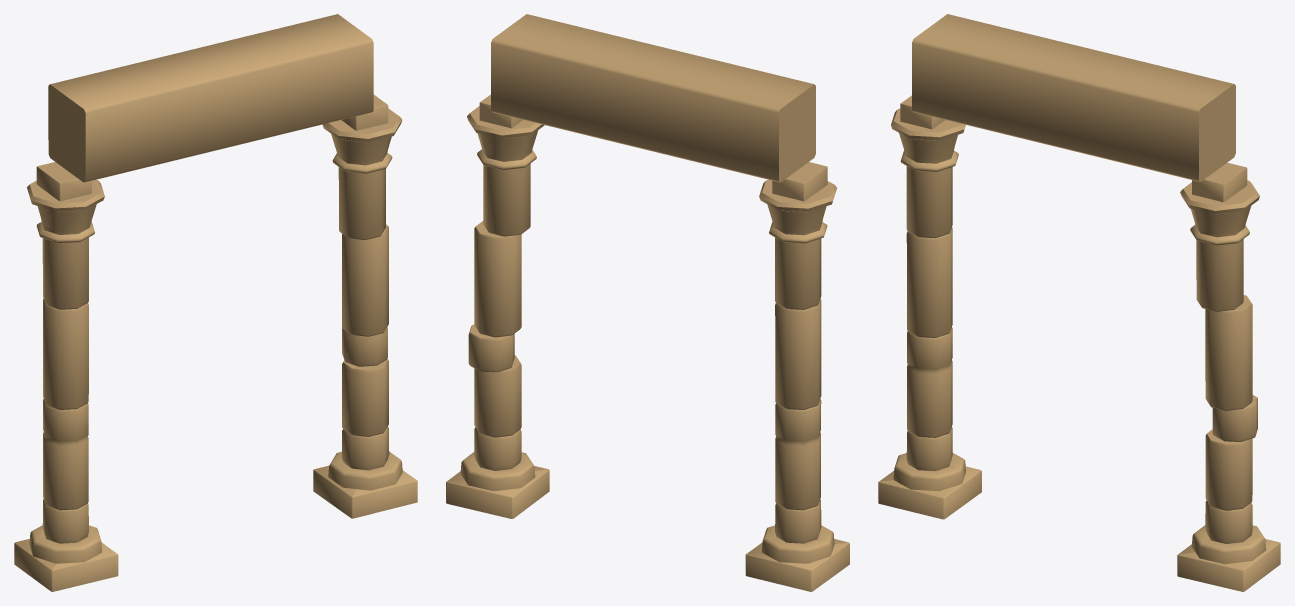
Rendered from Ruins_Pillars.fbx.
3 renders of one model, left to right at view 1: azimuth 30°, elevation 25°; view 2: azimuth 150°, elevation 25°; view 3: azimuth 330°, elevation 25°, orthographic.
Visible parts, largest first — view 1: Pair; view 2: Pair; view 3: Pair.
Boxes of the visible parts, <box> form: Pair: <box>14,14,417,591</box>; Pair: <box>446,14,849,591</box>; Pair: <box>878,14,1280,591</box>.
Bounding box in the file's own units: 1105 × 1355 × 216.
